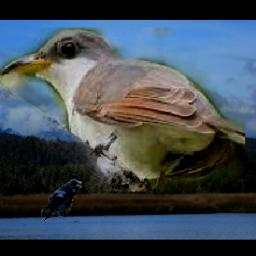Crow: (41, 180, 82, 222)
Cuckoo: (0, 28, 246, 192)
